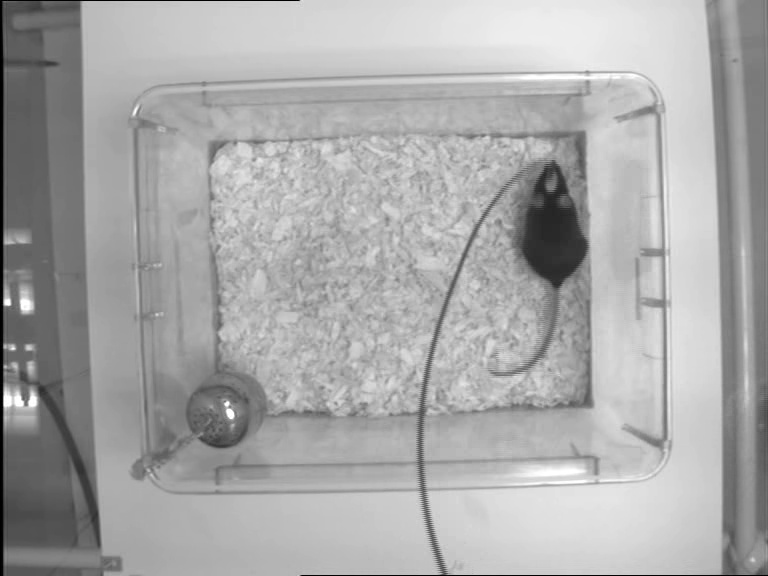mice: (489, 157, 585, 377)
